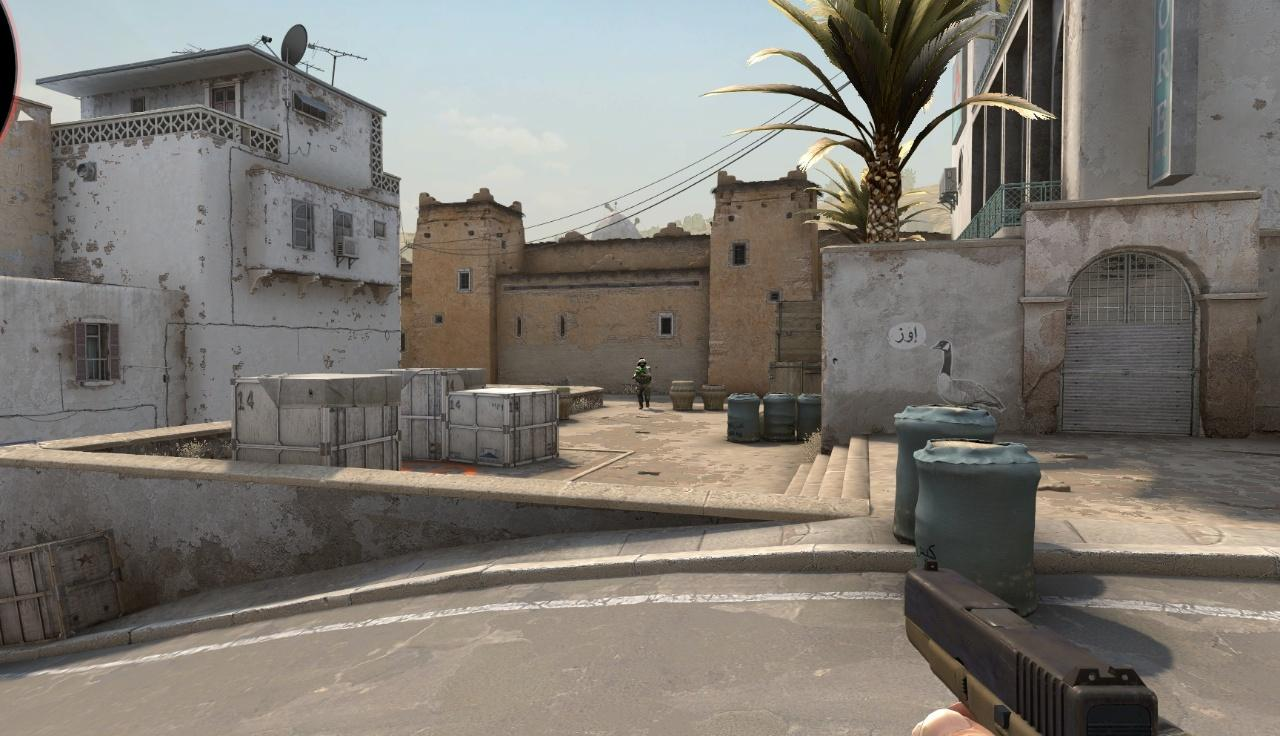ct: (633, 358, 651, 409)
cthead: (639, 359, 646, 367)
pistol: (904, 561, 1203, 736)
